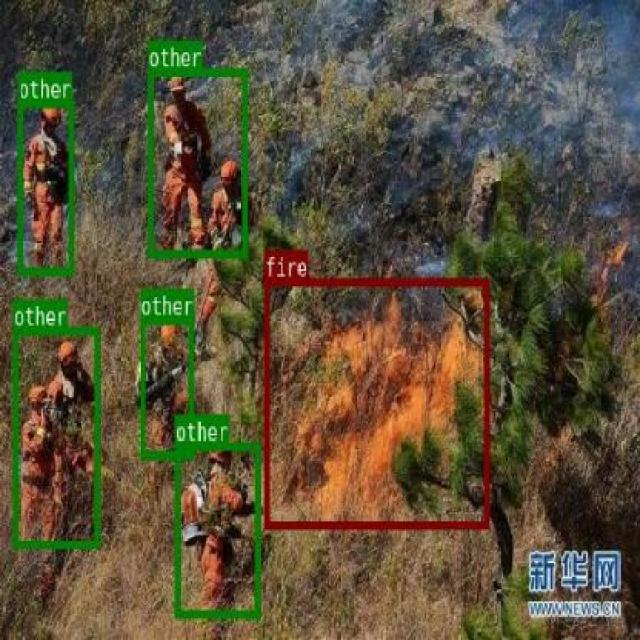Fire: (264, 277, 488, 528)
